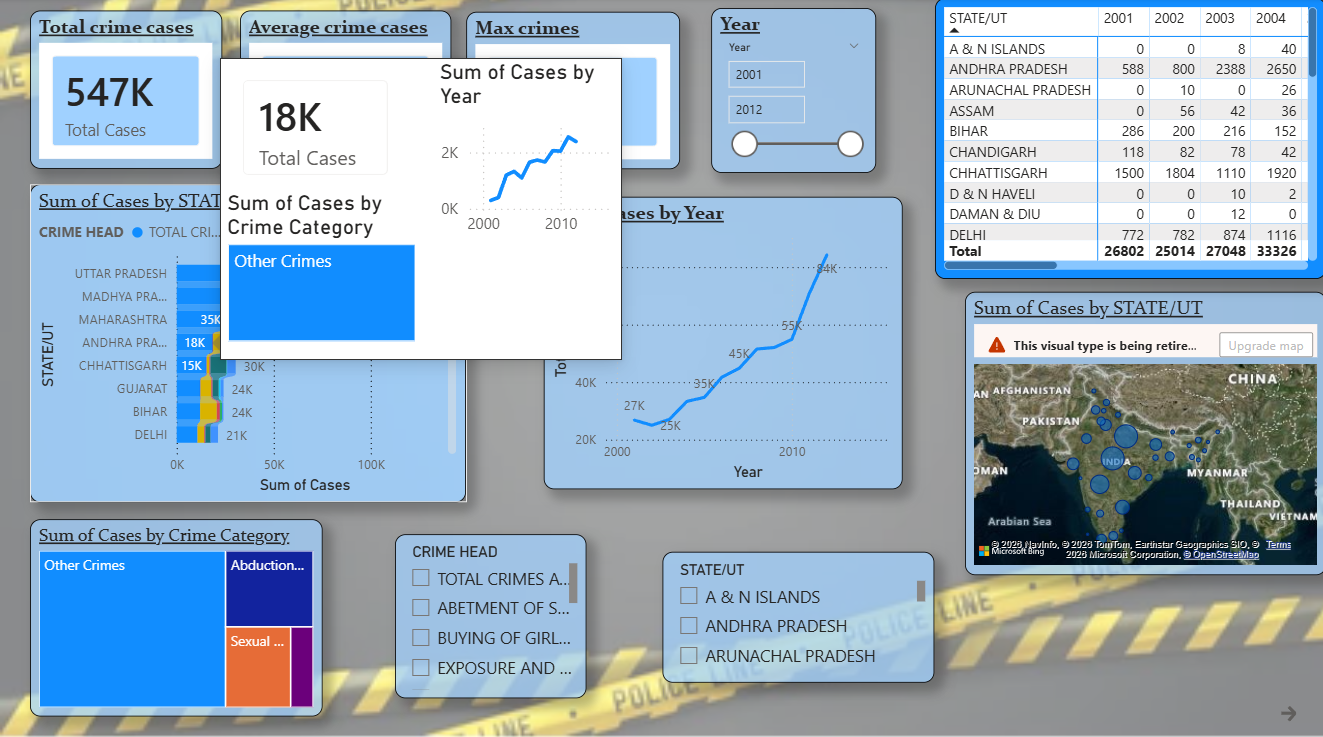

Layout of this report page (visuals, bound fields, positions):
{"tool":"powerbi","page":{"name":"Home page","canvas":[1280,720],"ordinal":0},"visuals":[{"type":"cardVisual","title":"Total crime cases","fields":{"Data":["in.Total Cases"]},"box":[29.3,12.2,185.9,152.9],"z":0},{"type":"cardVisual","title":"Max crimes","fields":{"Data":["in.Maximum Cases"]},"box":[450,13.5,206.7,151.6],"z":1000},{"type":"cardVisual","title":"Average crime cases","fields":{"Data":["in.Average Cases"]},"box":[231.1,12.2,204.2,152.9],"z":2000},{"type":"lineChart","fields":{"Category":["in.Year"],"Y":["in.Total Cases"]},"box":[524.6,192,346.1,282.5],"z":3000},{"type":"barChart","fields":{"Y":["Sum(in.Cases)"],"Category":["in.STATE/UT"],"Series":["in.CRIME HEAD"]},"box":[29.3,179.8,420.7,306.9],"z":4000},{"type":"map","fields":{"Category":["in.STATE/UT"],"Size":["Sum(in.Cases)"]},"box":[931.4,283.5,348.7,273.9],"z":5000},{"type":"pivotTable","fields":{"Rows":["in.STATE/UT"],"Columns":["in.Year"],"Values":["Sum(in.Cases)"]},"box":[902.5,0,377.9,271.5],"z":6000},{"type":"treemap","fields":{"Group":["in.Crime Category"],"Values":["Sum(in.Cases)"]},"box":[29.3,502.6,282.5,190.8],"z":7000},{"type":"slicer","title":"Year","fields":{"Values":["in.Year"]},"box":[686.5,9.7,159.3,159.3],"z":8000},{"type":"slicer","fields":{"Values":["in.CRIME HEAD"]},"box":[381.2,517.5,185,158.8],"z":9000},{"type":"slicer","fields":{"Values":["in.STATE/UT"]},"box":[640,535,262.5,126.2],"z":10000},{"type":"actionButton","box":[1231.4,670.1,44,40.4],"z":10001}]}

Visuals, with their boxes in screenshot pixels (x1, y1, x2, y2), scaled from the page's 1280x720 canvas onto the 1323x737 screenshot:
"Total crime cases" cardVisual: pyautogui.locateOnScreen(30, 12, 222, 169)
"Max crimes" cardVisual: pyautogui.locateOnScreen(465, 14, 679, 169)
"Average crime cases" cardVisual: pyautogui.locateOnScreen(239, 12, 450, 169)
lineChart - in.Year x in.Total Cases: pyautogui.locateOnScreen(542, 197, 900, 486)
barChart - Sum(in.Cases) x in.STATE/UT: pyautogui.locateOnScreen(30, 184, 465, 498)
map - in.STATE/UT x Sum(in.Cases): pyautogui.locateOnScreen(963, 290, 1322, 571)
pivotTable - in.STATE/UT x in.Year: pyautogui.locateOnScreen(933, 0, 1322, 278)
treemap - in.Crime Category x Sum(in.Cases): pyautogui.locateOnScreen(30, 514, 322, 710)
"Year" slicer: pyautogui.locateOnScreen(710, 10, 874, 173)
slicer - in.CRIME HEAD: pyautogui.locateOnScreen(394, 530, 585, 692)
slicer - in.STATE/UT: pyautogui.locateOnScreen(662, 548, 933, 677)
actionButton: pyautogui.locateOnScreen(1273, 686, 1318, 727)
